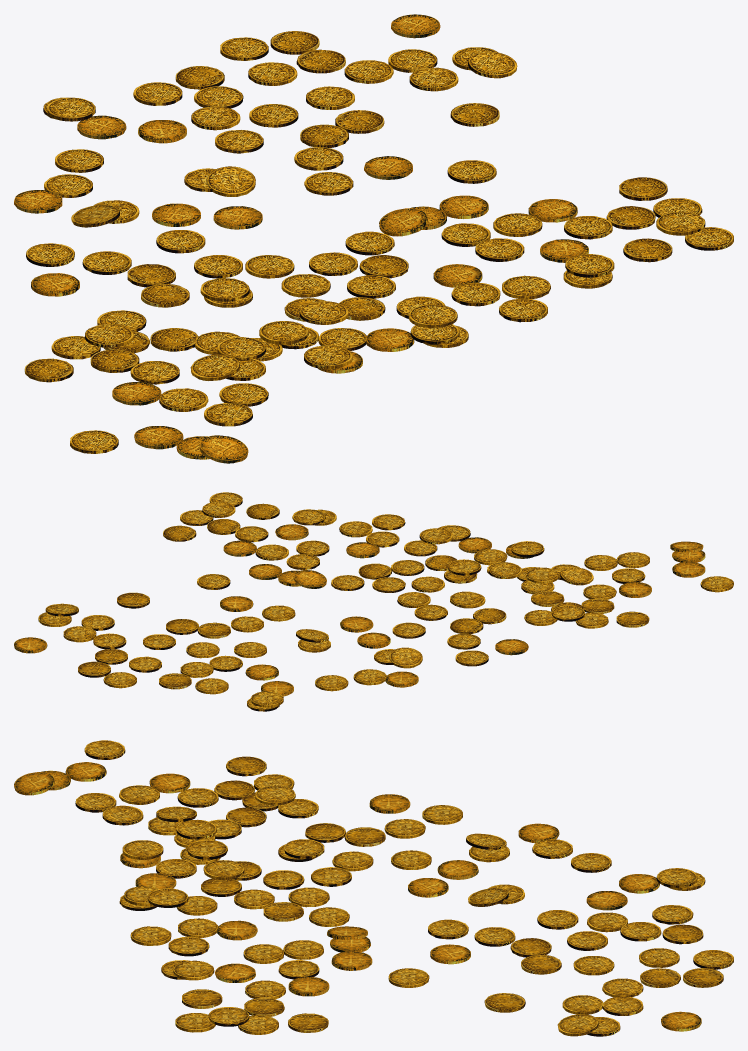
Rendered from Coins.FBX.
3 renders of one model, top to bottom at view 1: azimuth 30°, elevation 25°; view 2: azimuth 150°, elevation 25°; view 3: azimuth 270°, elevation 25°, orthographic. The views are drawn at different scales.
Parts seen in each view (by area): view 1: Coins; view 2: Coins; view 3: Coins.
Part boxes in pixels (x1,y1,x2,y2): Coins: [14, 14, 733, 463]; Coins: [14, 492, 733, 711]; Coins: [14, 740, 733, 1036].
Bounding box in the file's own units: 207 × 2.94 × 214.
Materials: 1 (1 with a texture image).
